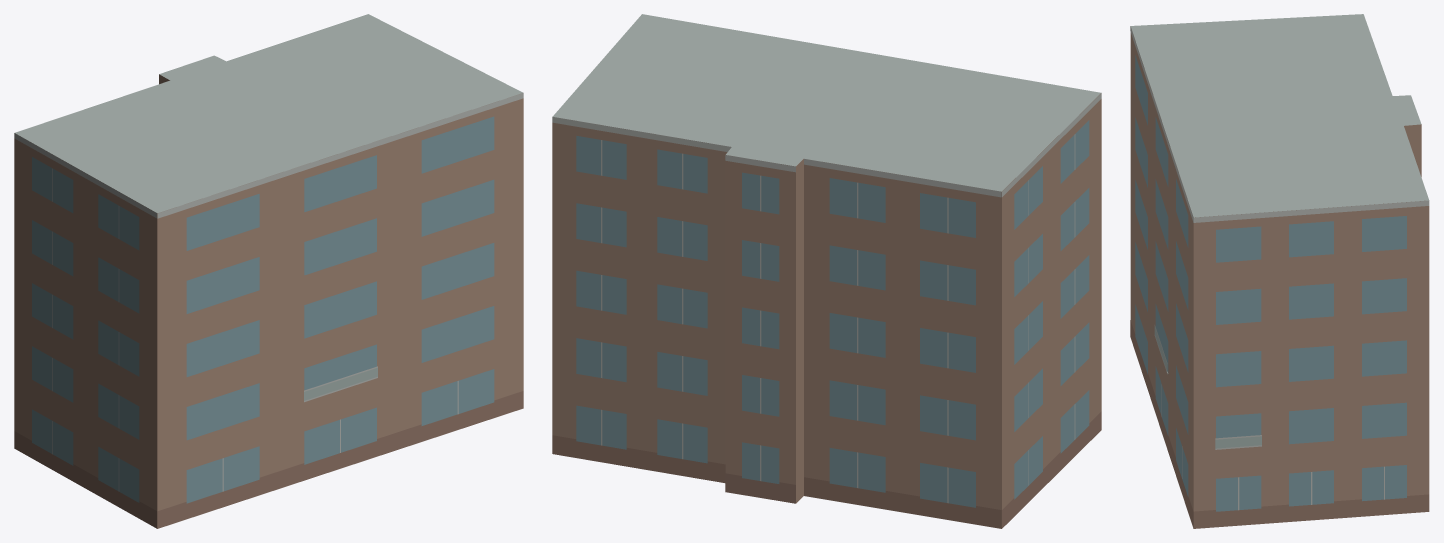
File: survey-upis-32463882.glb
3 views of the same model, side by side, from view 1: azimuth 30°, elevation 25°; view 2: azimuth 150°, elevation 25°; view 3: azimuth 270°, elevation 25° (orthographic). The views are drawn at different scales.
Parts seen in each view (by area): view 1: survey-upis-32463882.tmp; view 2: survey-upis-32463882.tmp; view 3: survey-upis-32463882.tmp.
Boxes of the visible parts, x1=… form: survey-upis-32463882.tmp: x1=14, y1=14, x2=523, y2=528; survey-upis-32463882.tmp: x1=552, y1=14, x2=1101, y2=528; survey-upis-32463882.tmp: x1=1130, y1=14, x2=1429, y2=528.
Bounding box in the file's own units: 19.64 × 14 × 12.19.
